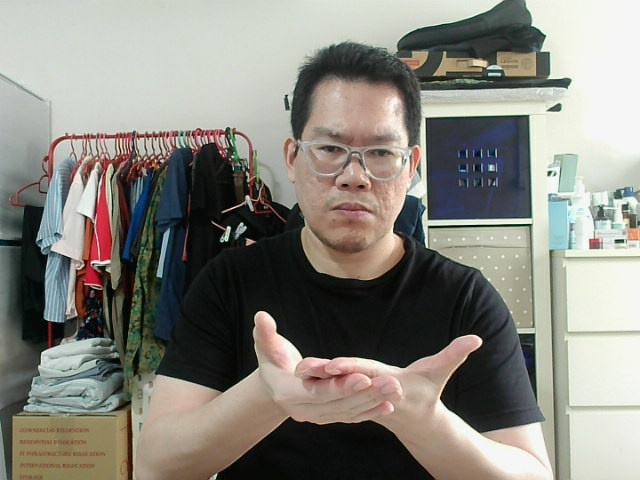good: (262, 323, 390, 418)
